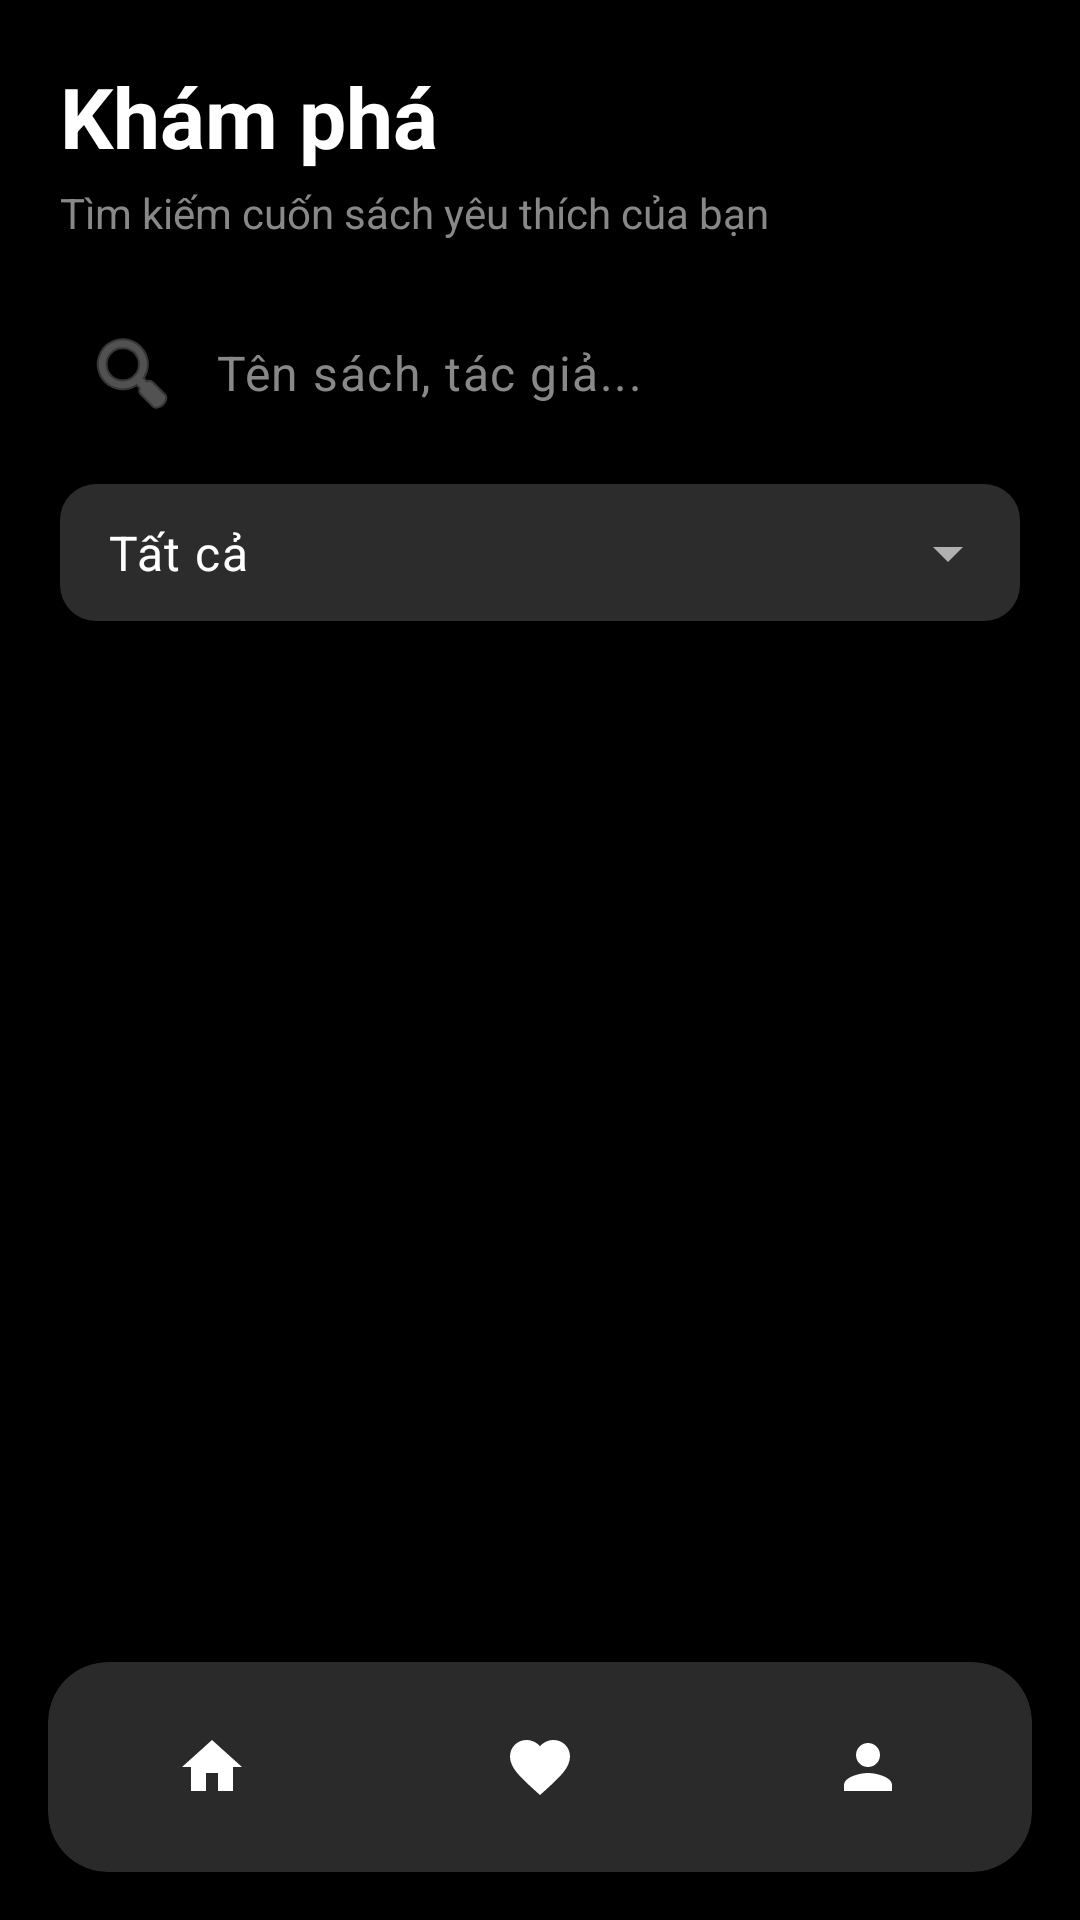

Point at icon controls on the screen. Image size 1080w x 1920h, points as (x=x, y=y).
favorite: (x=540, y=1767)
home: (x=212, y=1767)
user: (x=868, y=1767)
